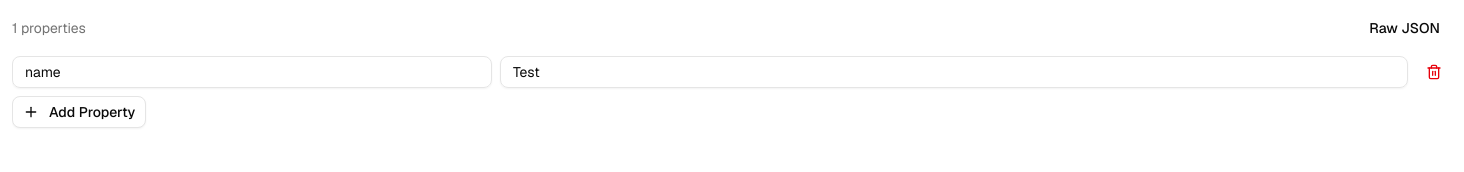
JsonFieldEditor › Raw JSON Mode › should toggle between visual and raw mode
This screenshot has width=1464, height=172.
Click to switch to raw mode
What coordinates should you click on to do the following:
click the button "Raw JSON"
I would click on:
 (1405, 28)
Its box is [1357, 12, 1452, 44].
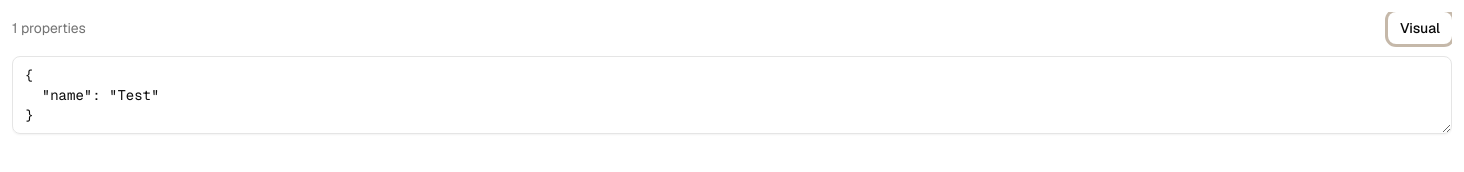
Expected: the button "Visual" is shown, [1388, 12, 1452, 44]
